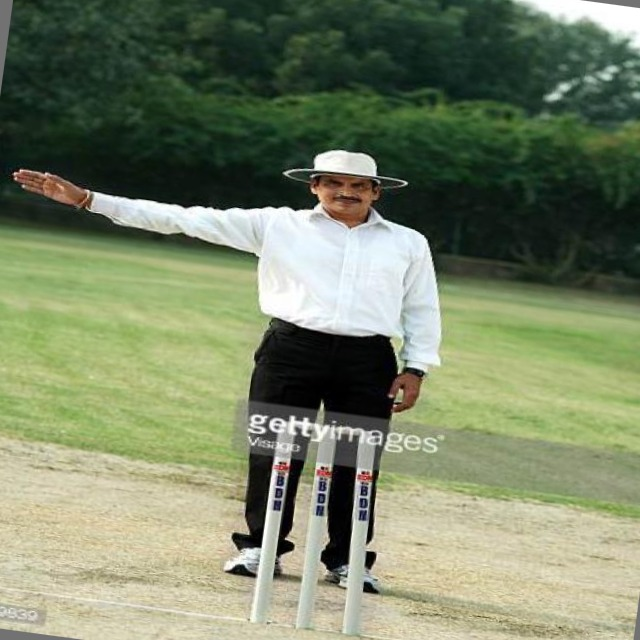No_Ball: (0, 102, 466, 606)
